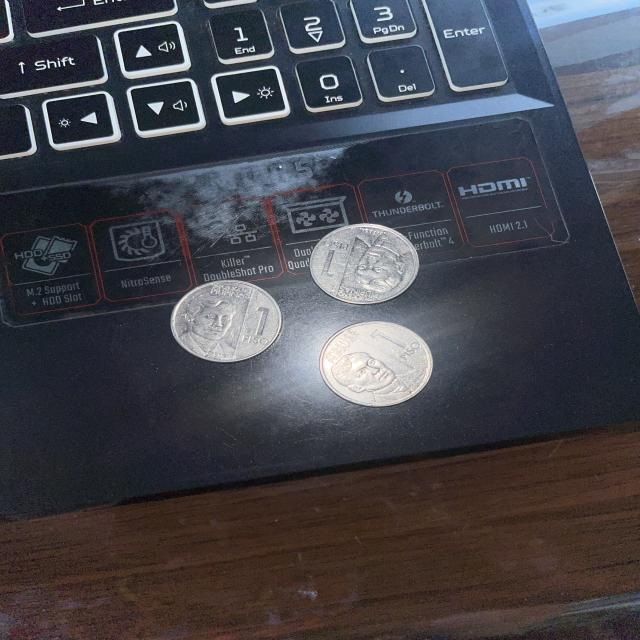1_New_Front: (330, 328, 423, 396), (185, 284, 274, 351), (324, 230, 408, 292)
